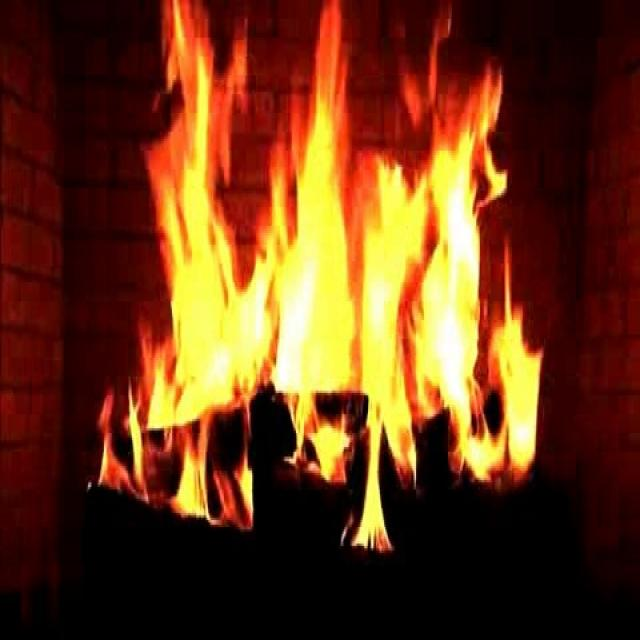smoke: (135, 24, 538, 534)
